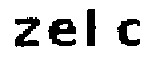c: (114, 17, 141, 51)
e: (48, 16, 77, 48)
l: (82, 6, 105, 55)
z: (9, 15, 43, 50)
